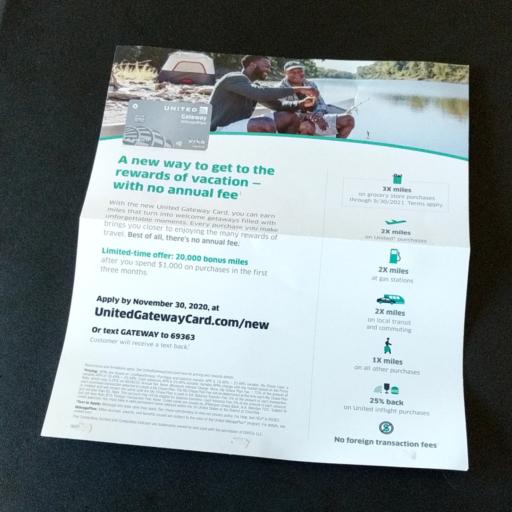paper: (21, 12, 512, 512)
